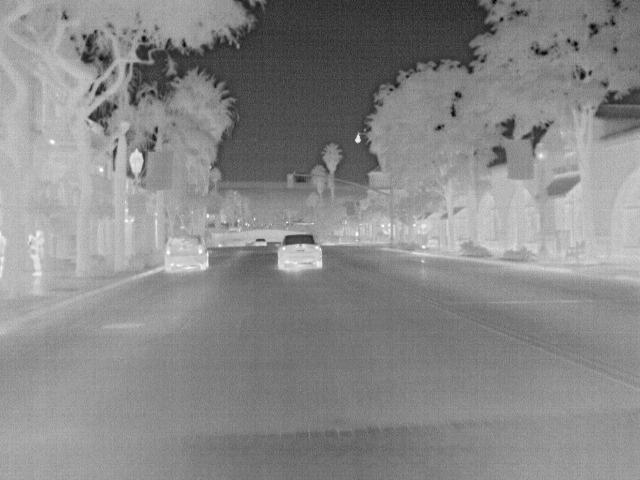car: (163, 233, 212, 273), (277, 233, 326, 273), (253, 237, 269, 248)
person: (28, 228, 47, 276)
